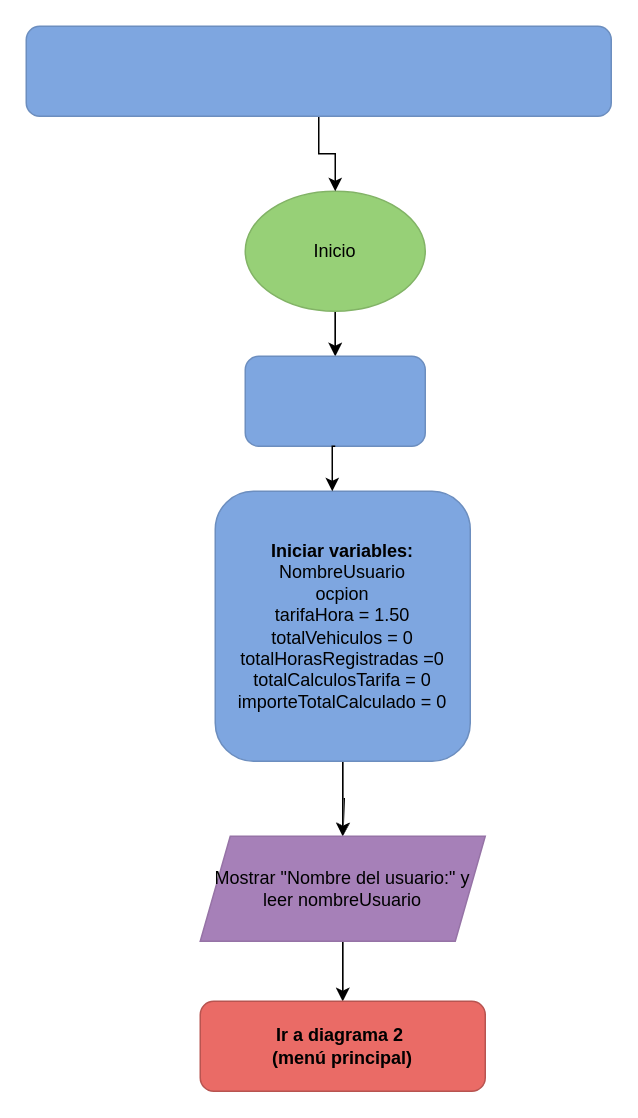
The diagram is 638 pixels wide and 1118 high, and some of its shapes have lost their labels. The shapes that lost their labels are listed below. From the top down, each one's centre as x and y in pixels, then its label:
At point 318,70: "Diagrama 1 de 6 - Inicio e inicialización".
At point 334,400: "Crear scanner".
